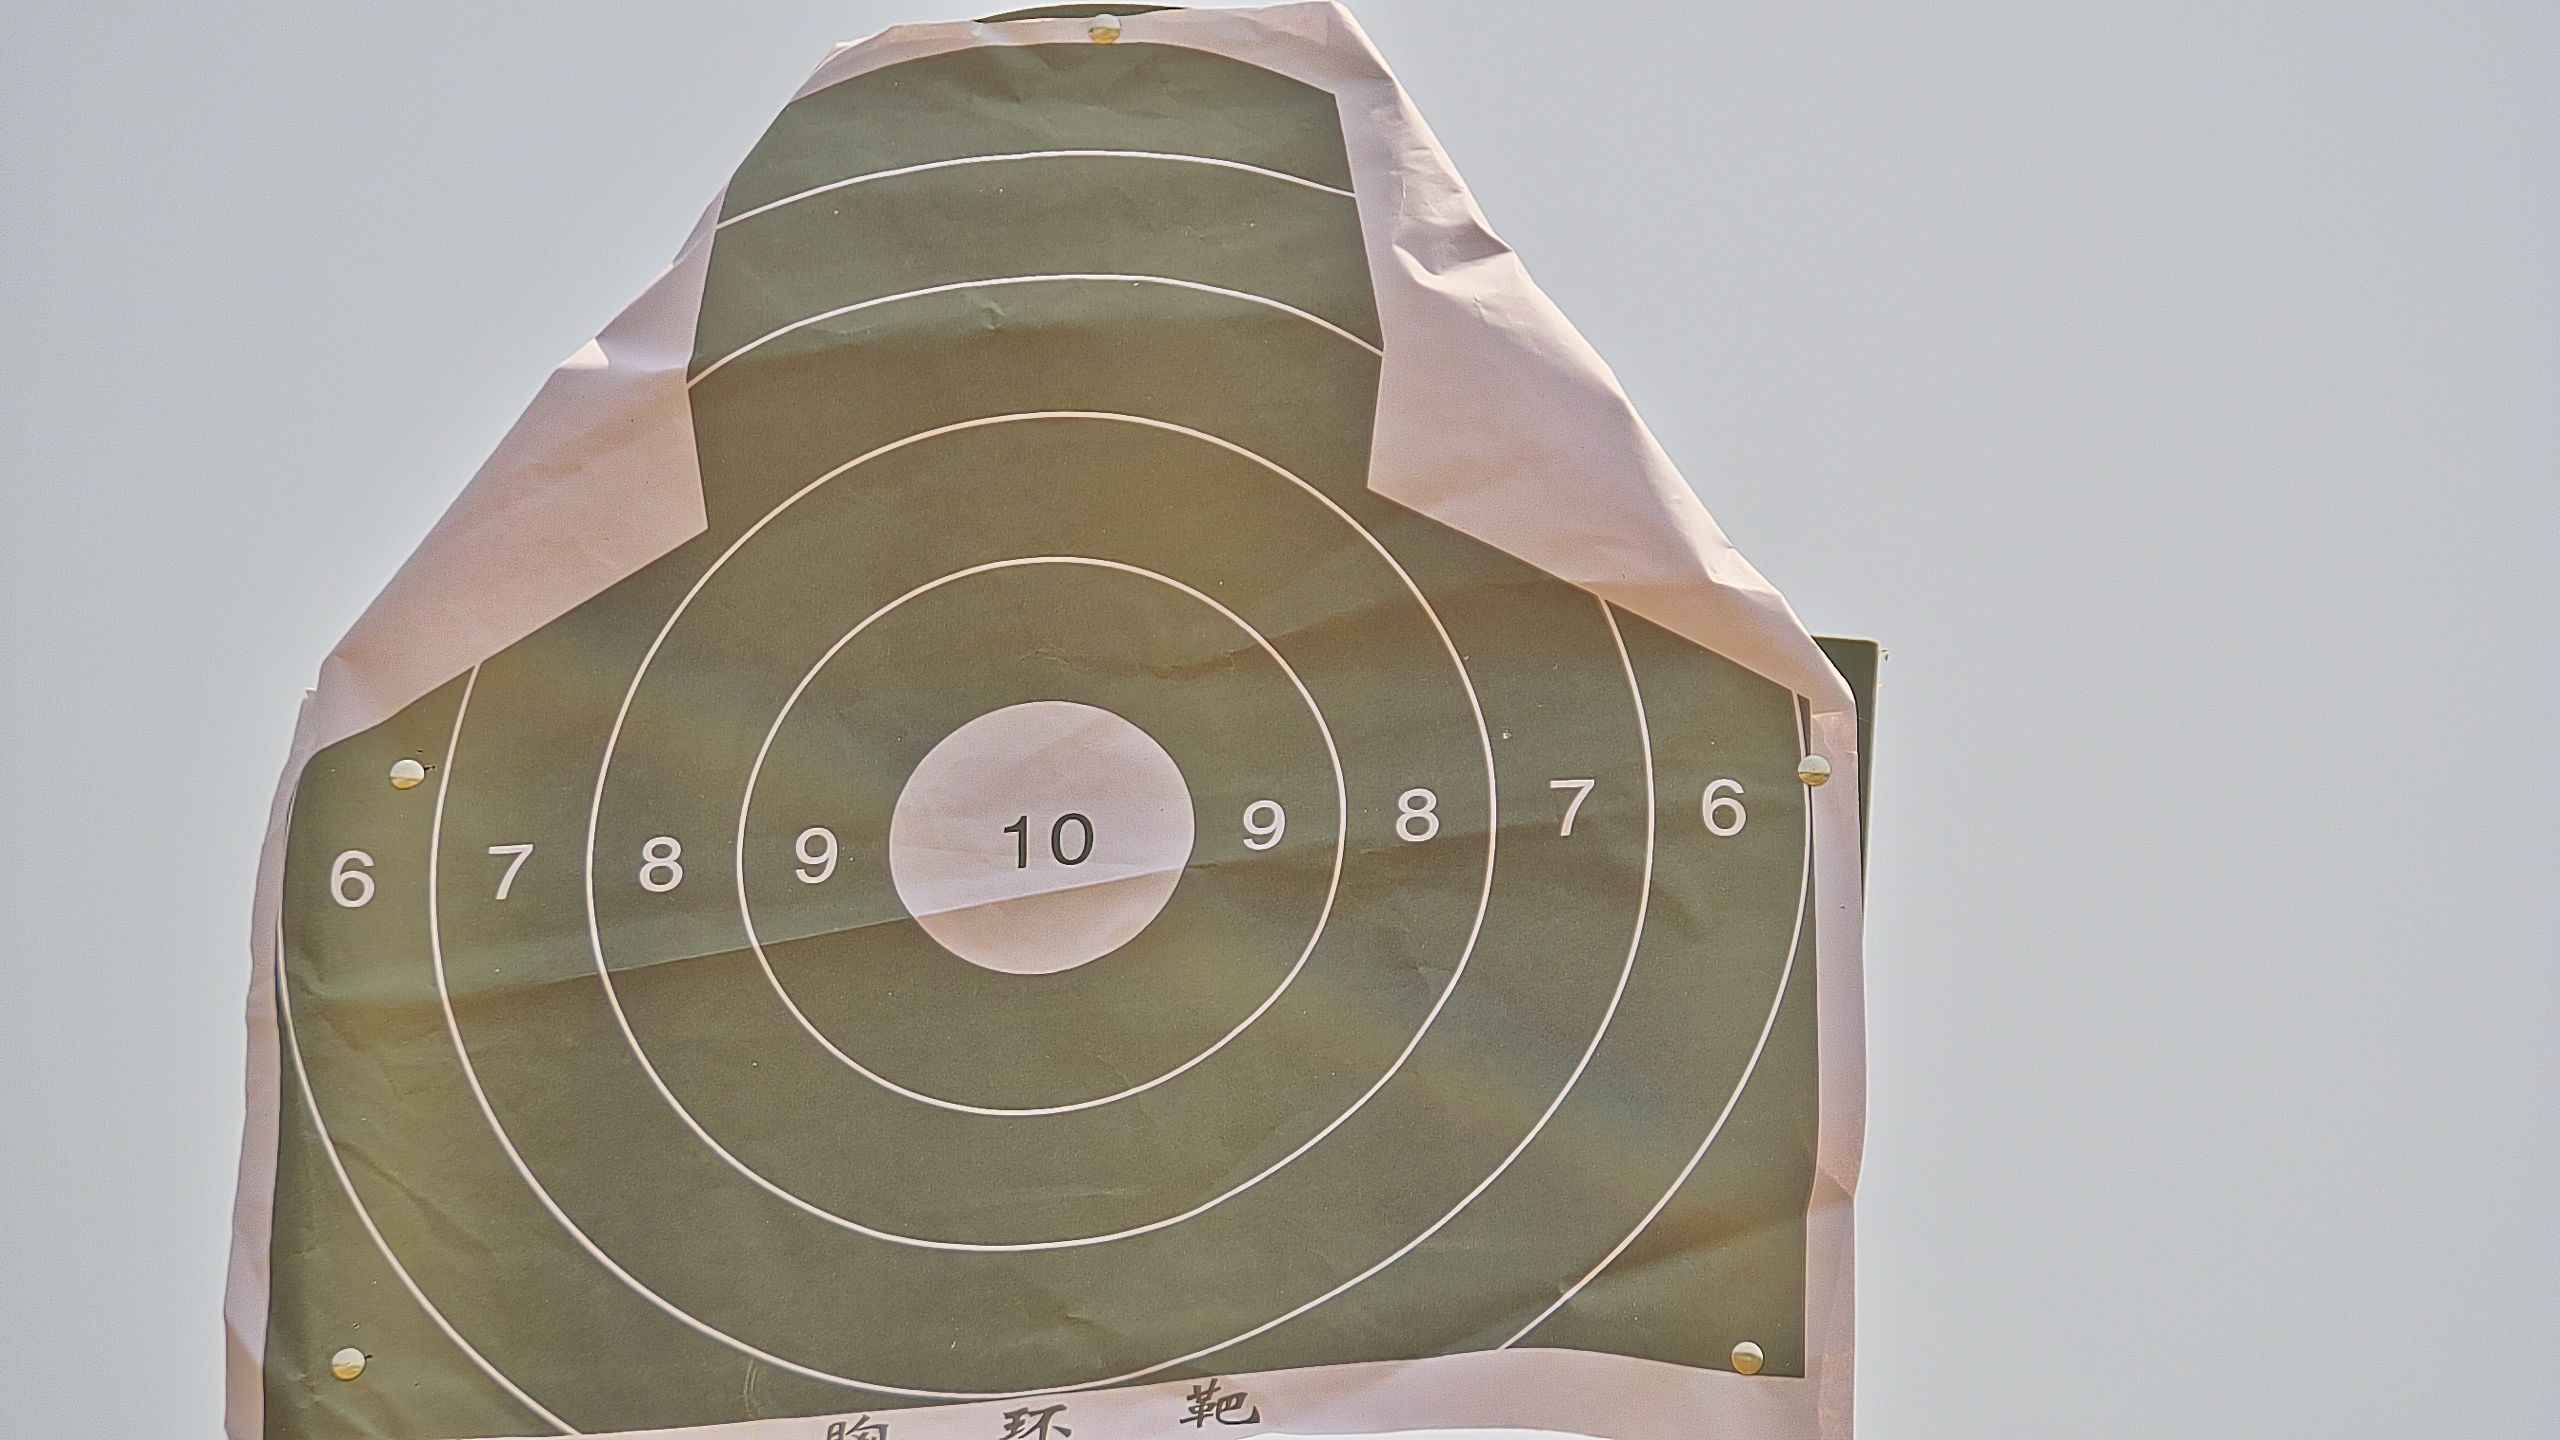kernel: (1037, 844, 1039, 846)
target: (257, 46, 1825, 1440)
ten: (883, 702, 1197, 978)
